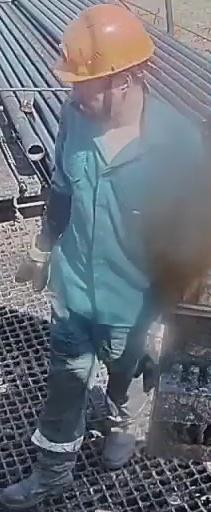gloves: (14, 223, 55, 293)
helmet: (52, 3, 155, 83)
vest: (42, 87, 205, 329)
